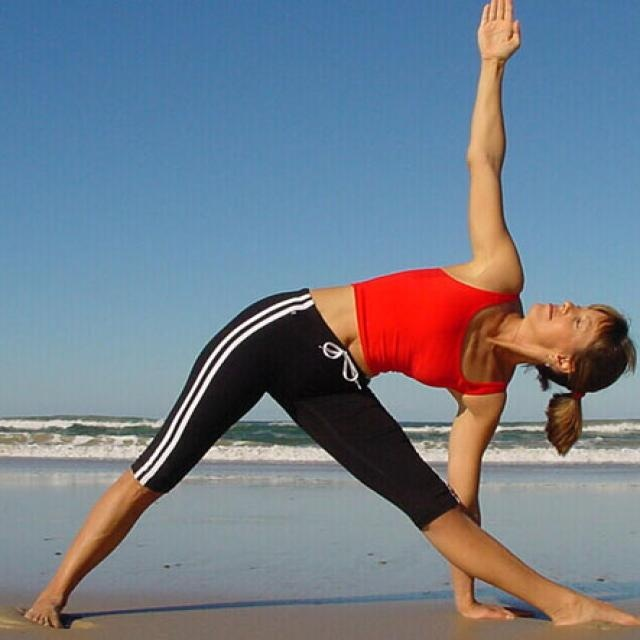Triangle_Pose: (17, 1, 640, 636)
